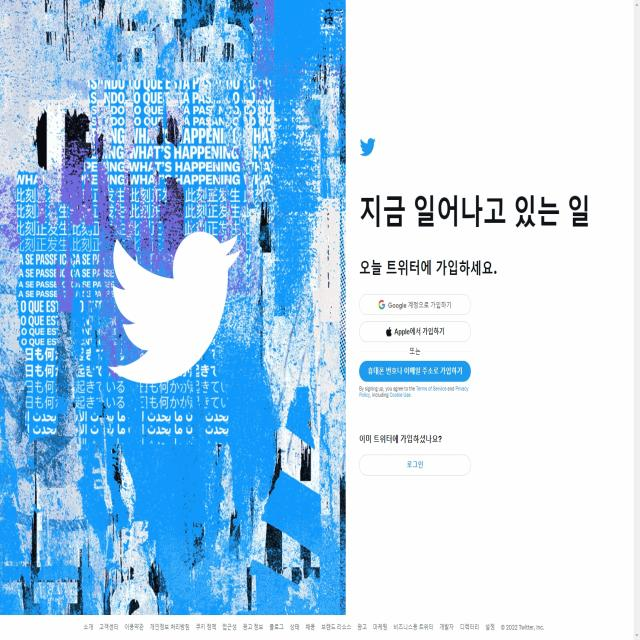menu-bar: (79, 617, 546, 635)
